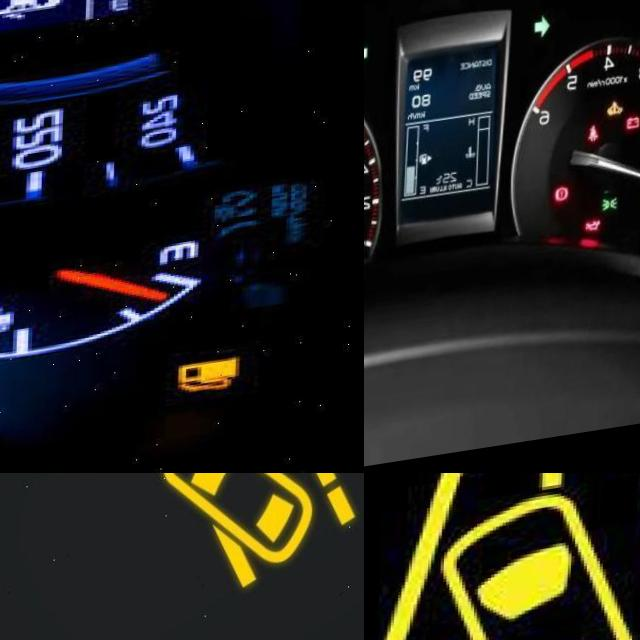Seat Belt: (591, 139, 602, 158)
